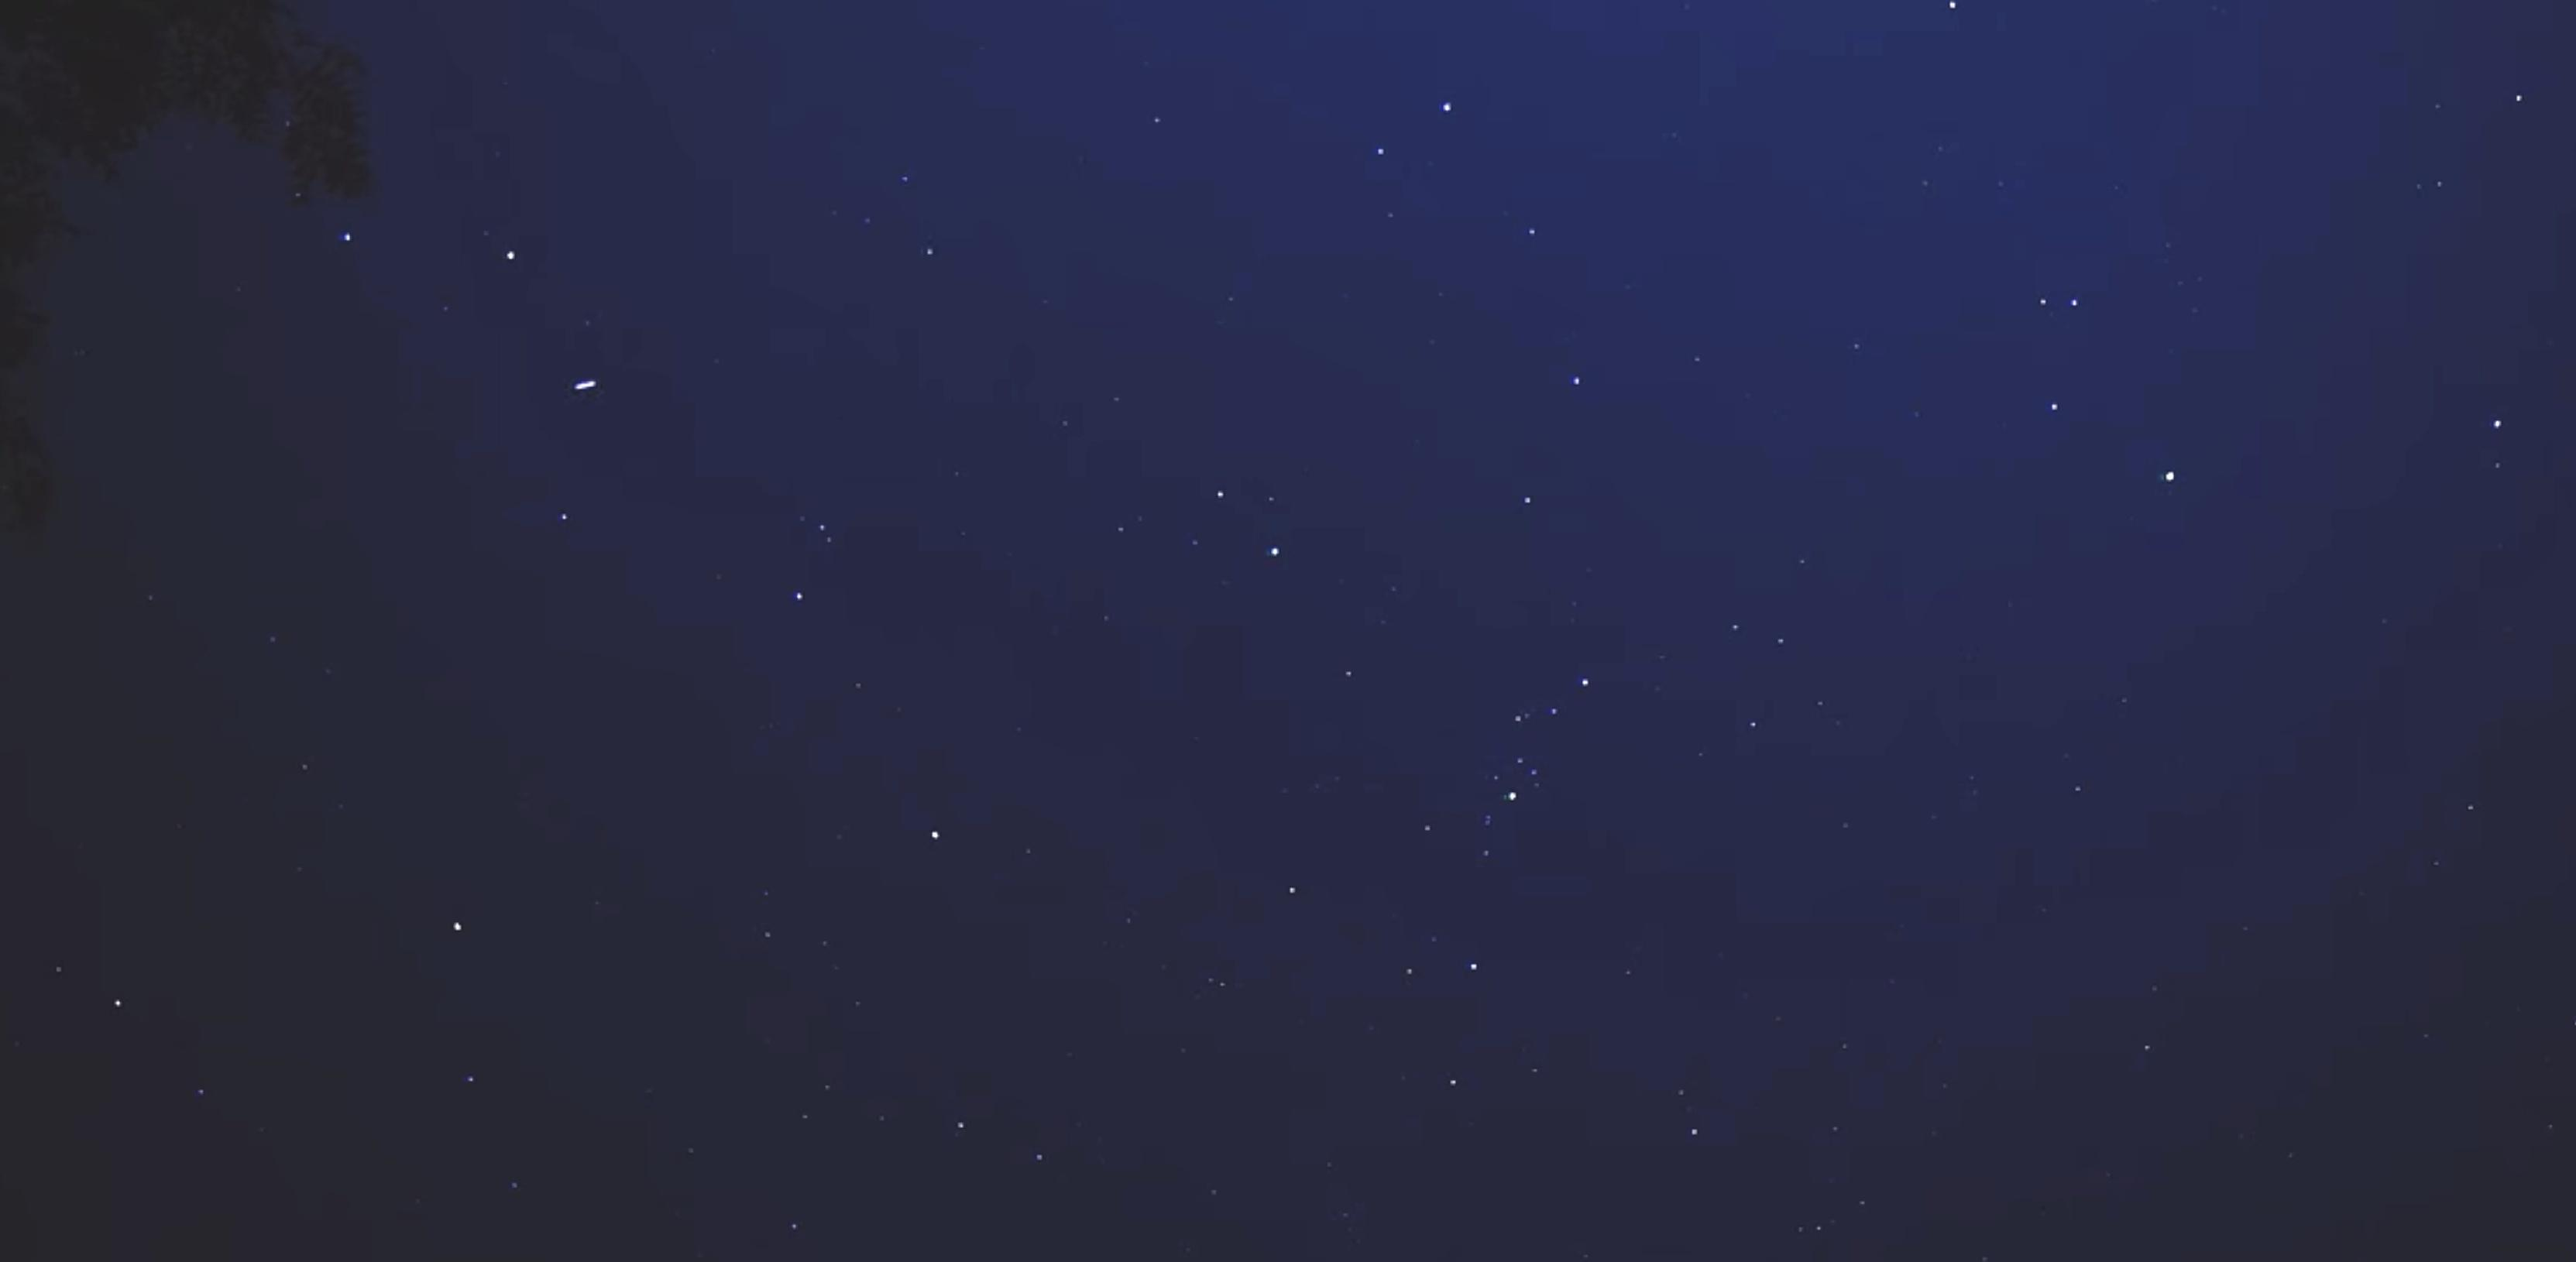meteorite: (552, 363, 621, 403)
